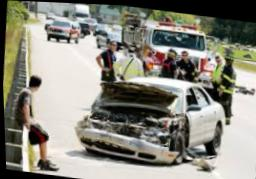Bonnet: (84, 104, 178, 129)
Bumper: (78, 124, 176, 160)
Fender: (171, 118, 189, 148)
